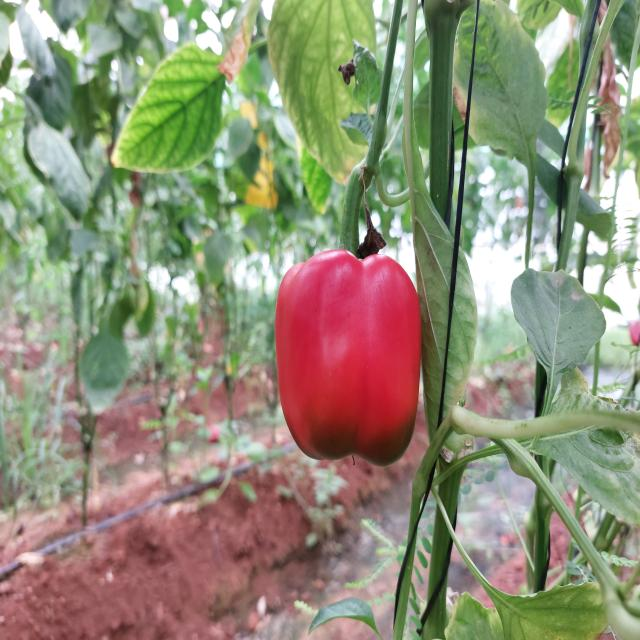Red-Ready-to-Harvest: (270, 243, 432, 476)
